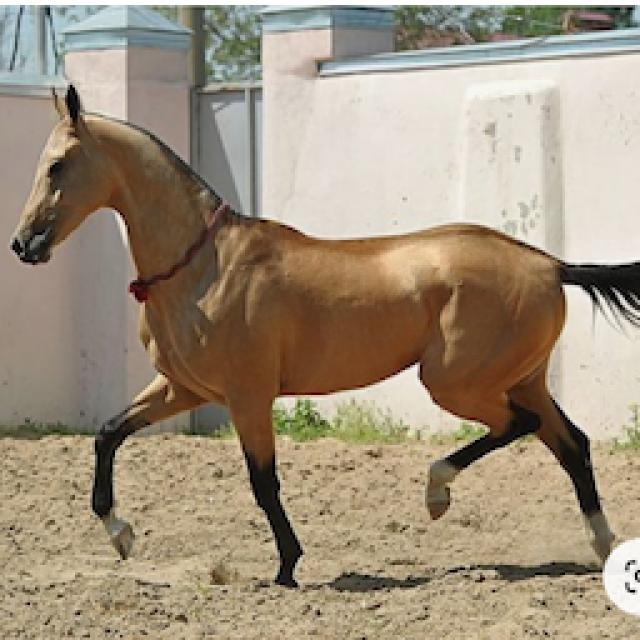Horse: (2, 78, 638, 590)
